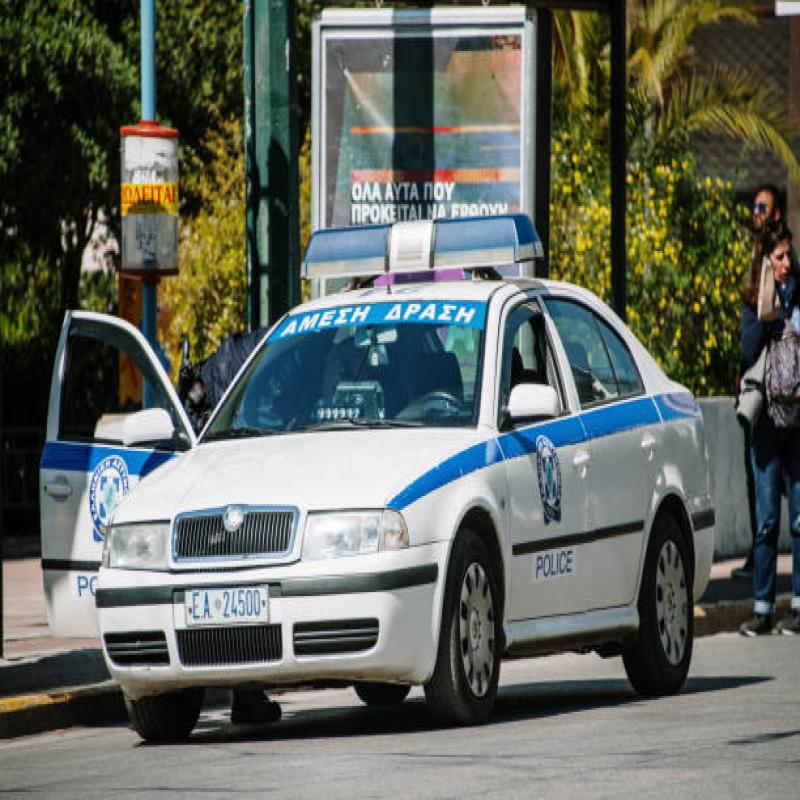AmbulanceSiren: (272, 196, 552, 292)
